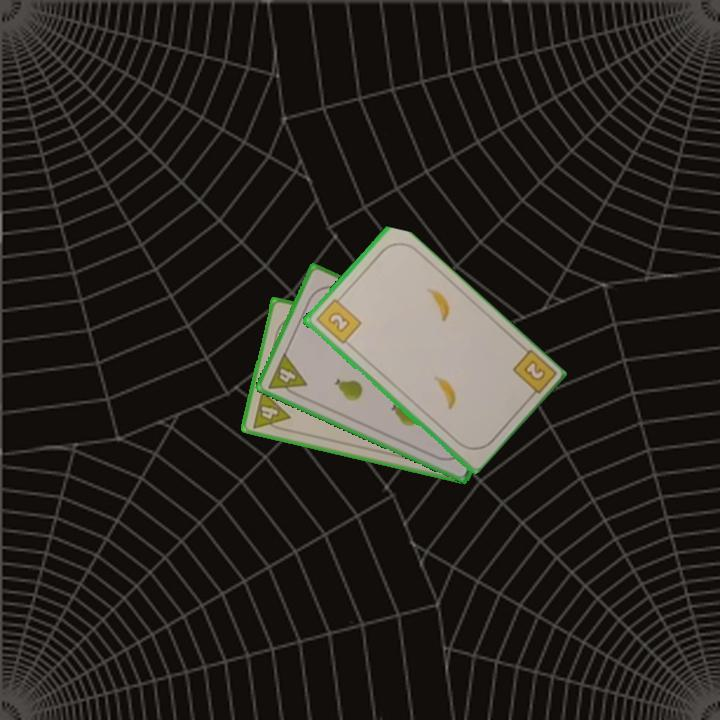2b: (312, 292, 364, 347), (508, 346, 557, 404)
4p: (264, 349, 310, 401), (249, 387, 293, 435)
